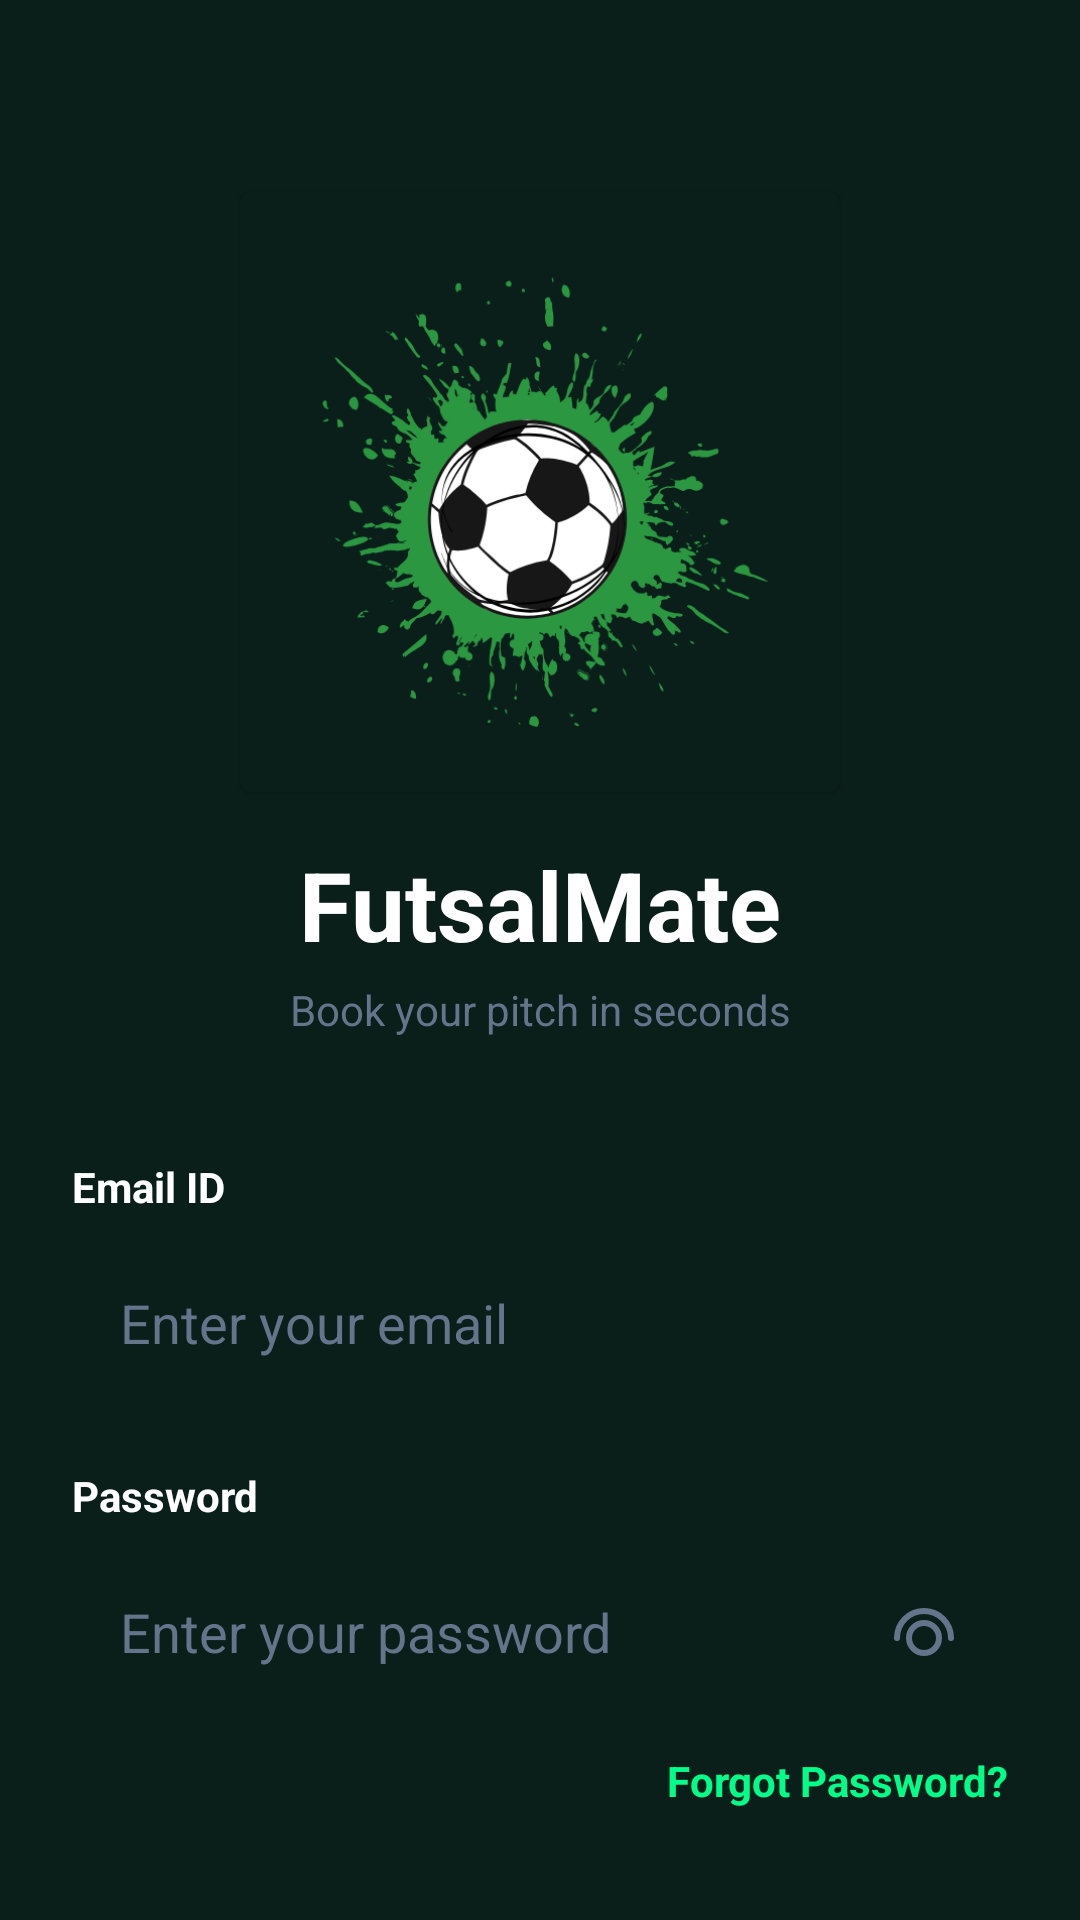

Icons on this 1080w x 1920h Android screen, each with the point to tap as [x,y]:
visibility: [924,1632]
